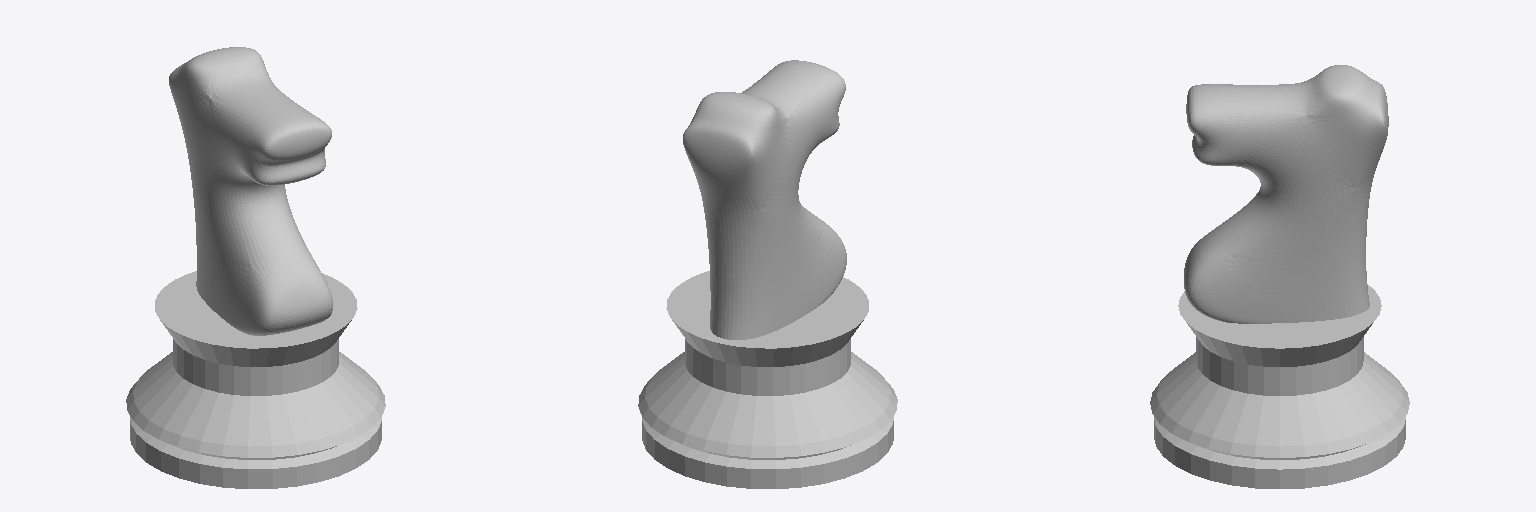
The model's file is knightwh.obj.
The picture shows the model from 3 angles: view 1: azimuth 30°, elevation 25°; view 2: azimuth 150°, elevation 25°; view 3: azimuth 270°, elevation 25°; orthographic projection.
Visible parts, largest first — view 1: Cube_Cube.001; view 2: Cube_Cube.001; view 3: Cube_Cube.001.
Boxes of the visible parts, box(x1,y1,x2,y2) form: Cube_Cube.001: box(126, 47, 385, 488); Cube_Cube.001: box(638, 60, 897, 488); Cube_Cube.001: box(1150, 65, 1409, 488).
Bounding box in the file's own units: 2.06 × 3.14 × 2.06.